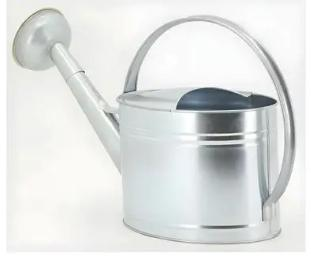ARROSOIR: (11, 4, 297, 251)
